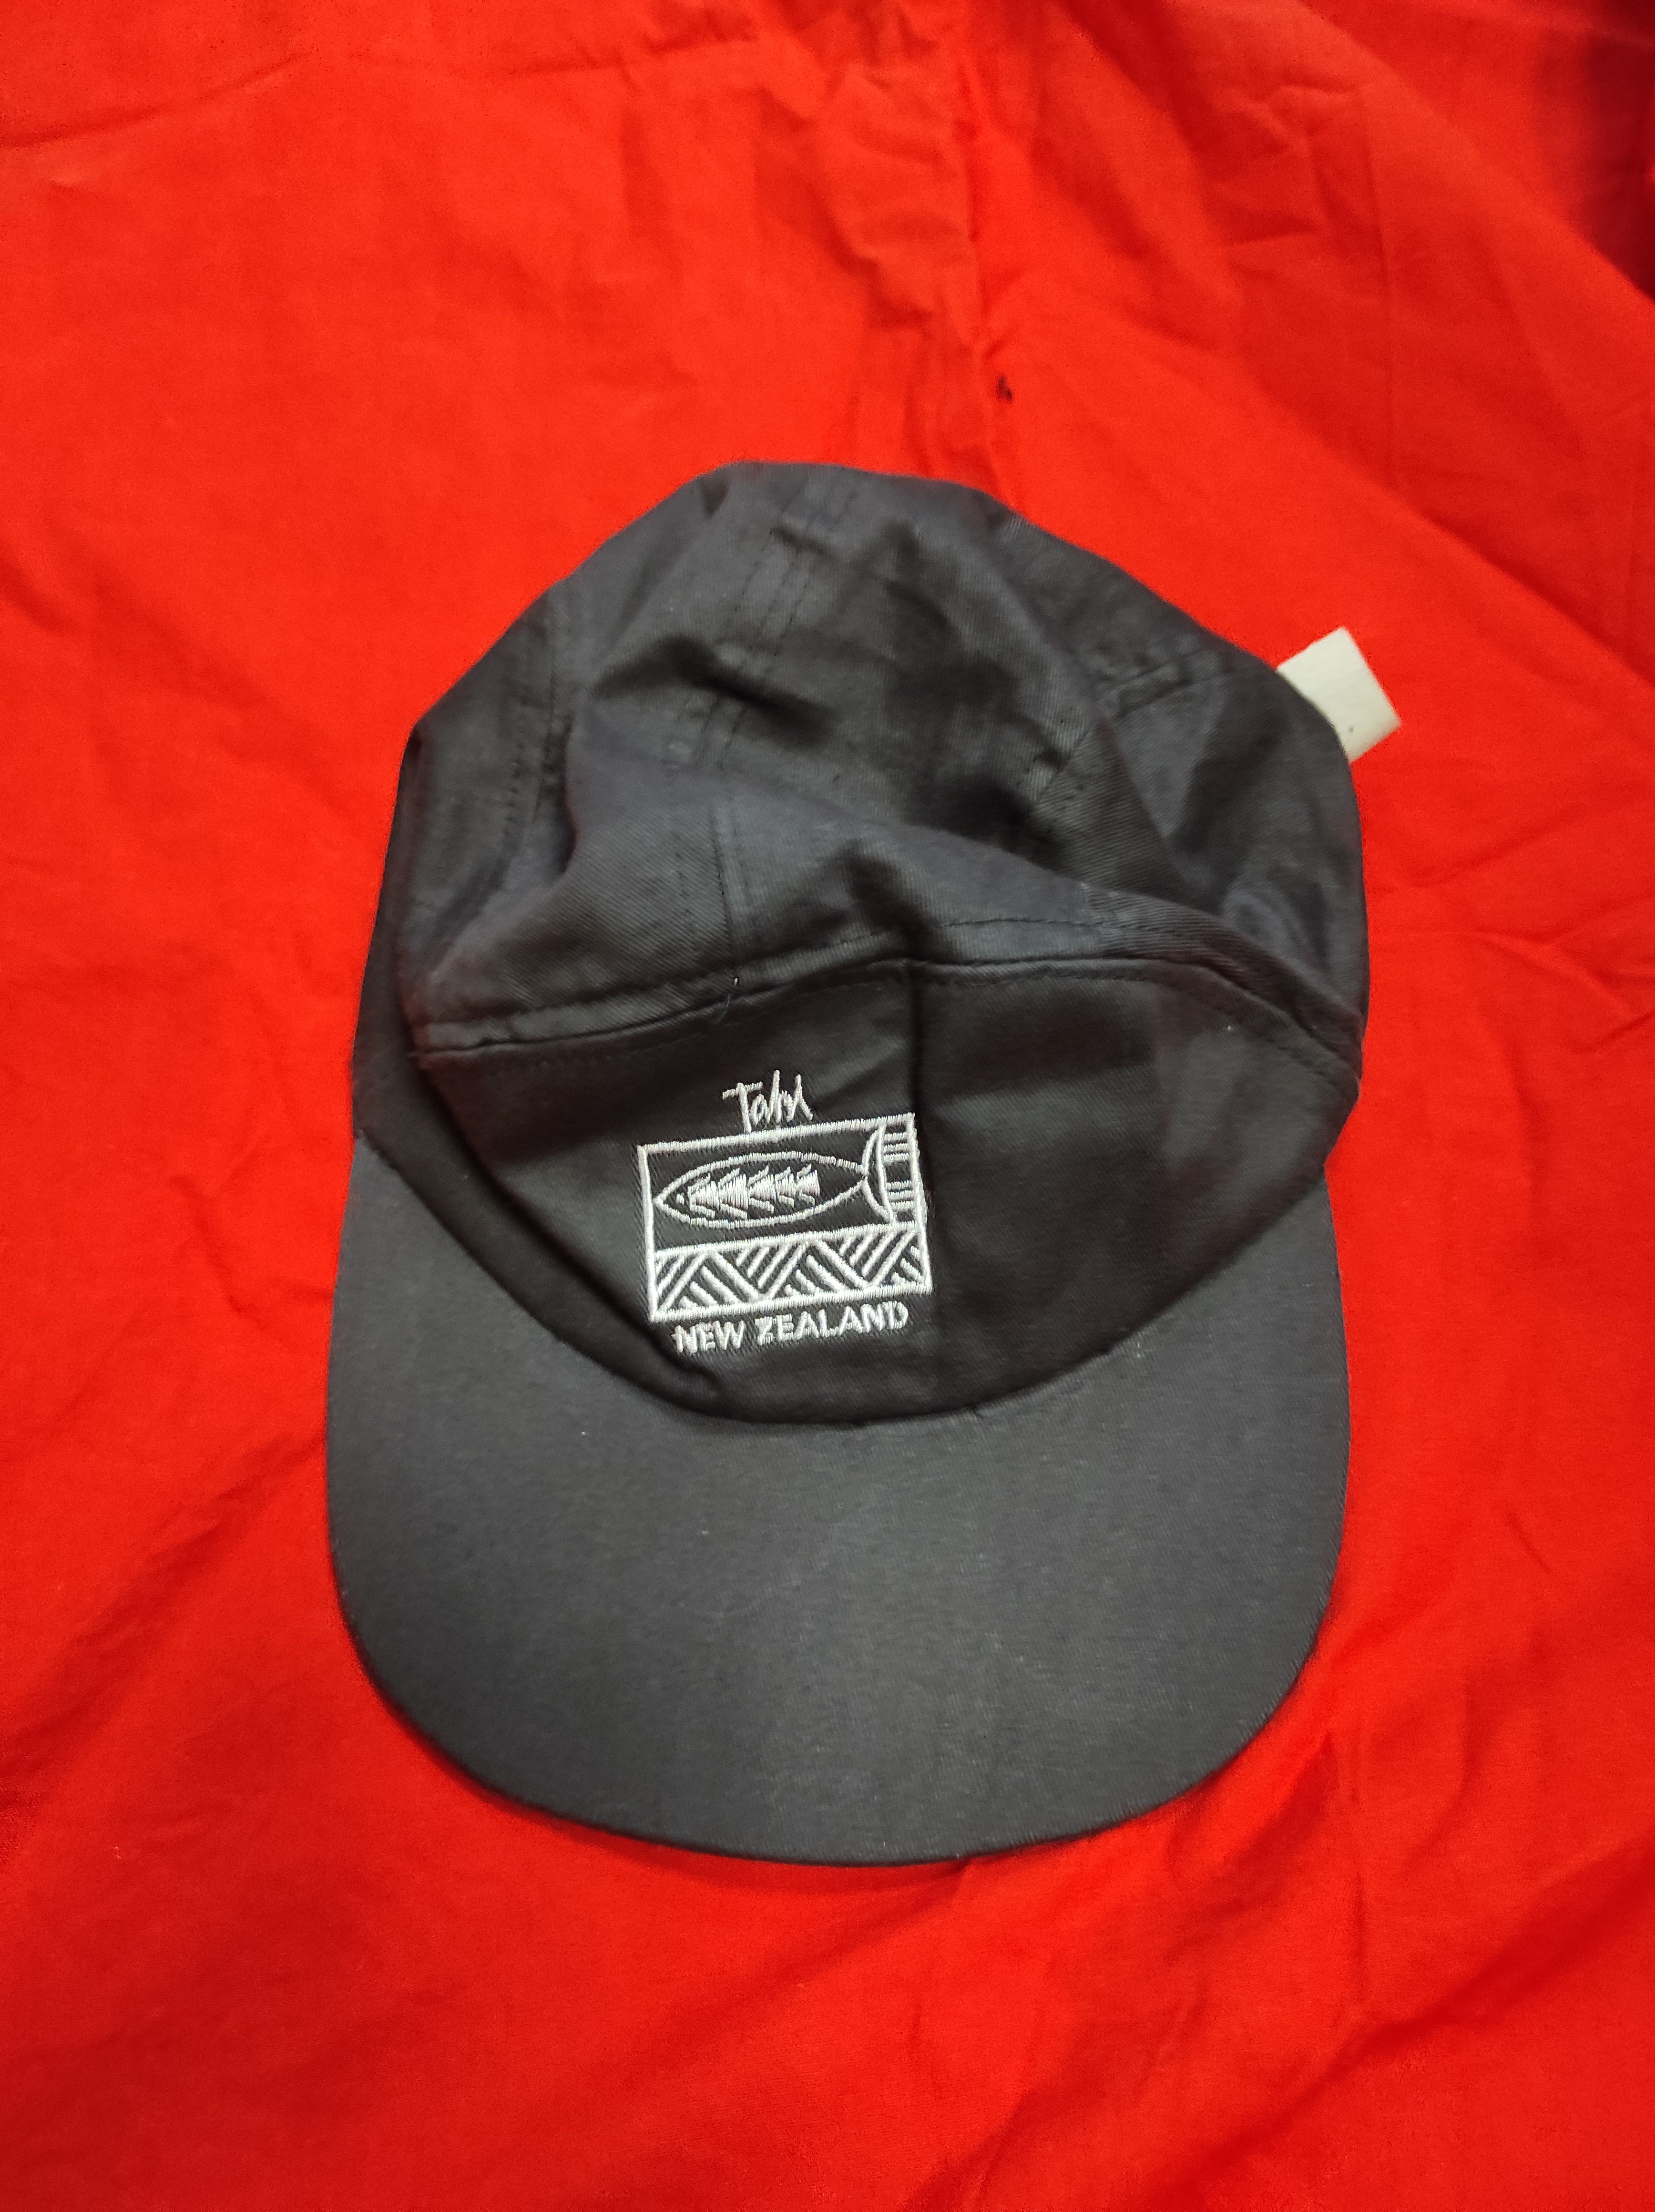clothes: (318, 468, 1365, 1876)
